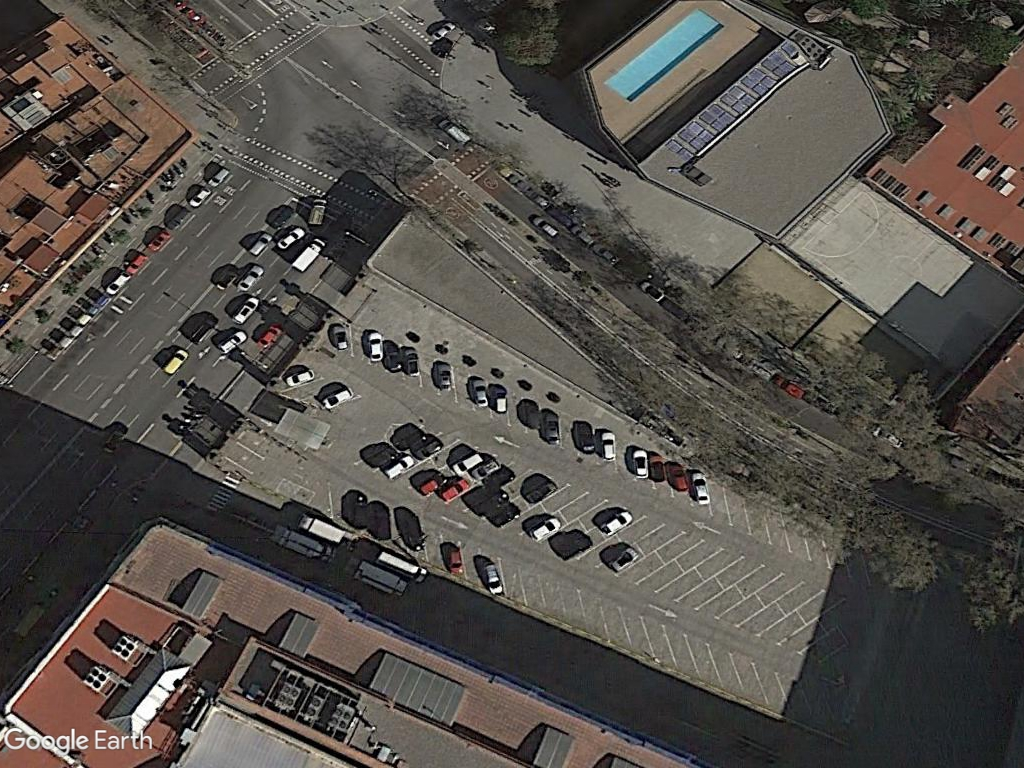car: (478, 558, 507, 599), (687, 465, 715, 507), (465, 373, 491, 411), (431, 355, 455, 393), (442, 540, 466, 577), (365, 327, 386, 366), (629, 444, 650, 481), (599, 428, 619, 465)
truck: (295, 511, 349, 546)
